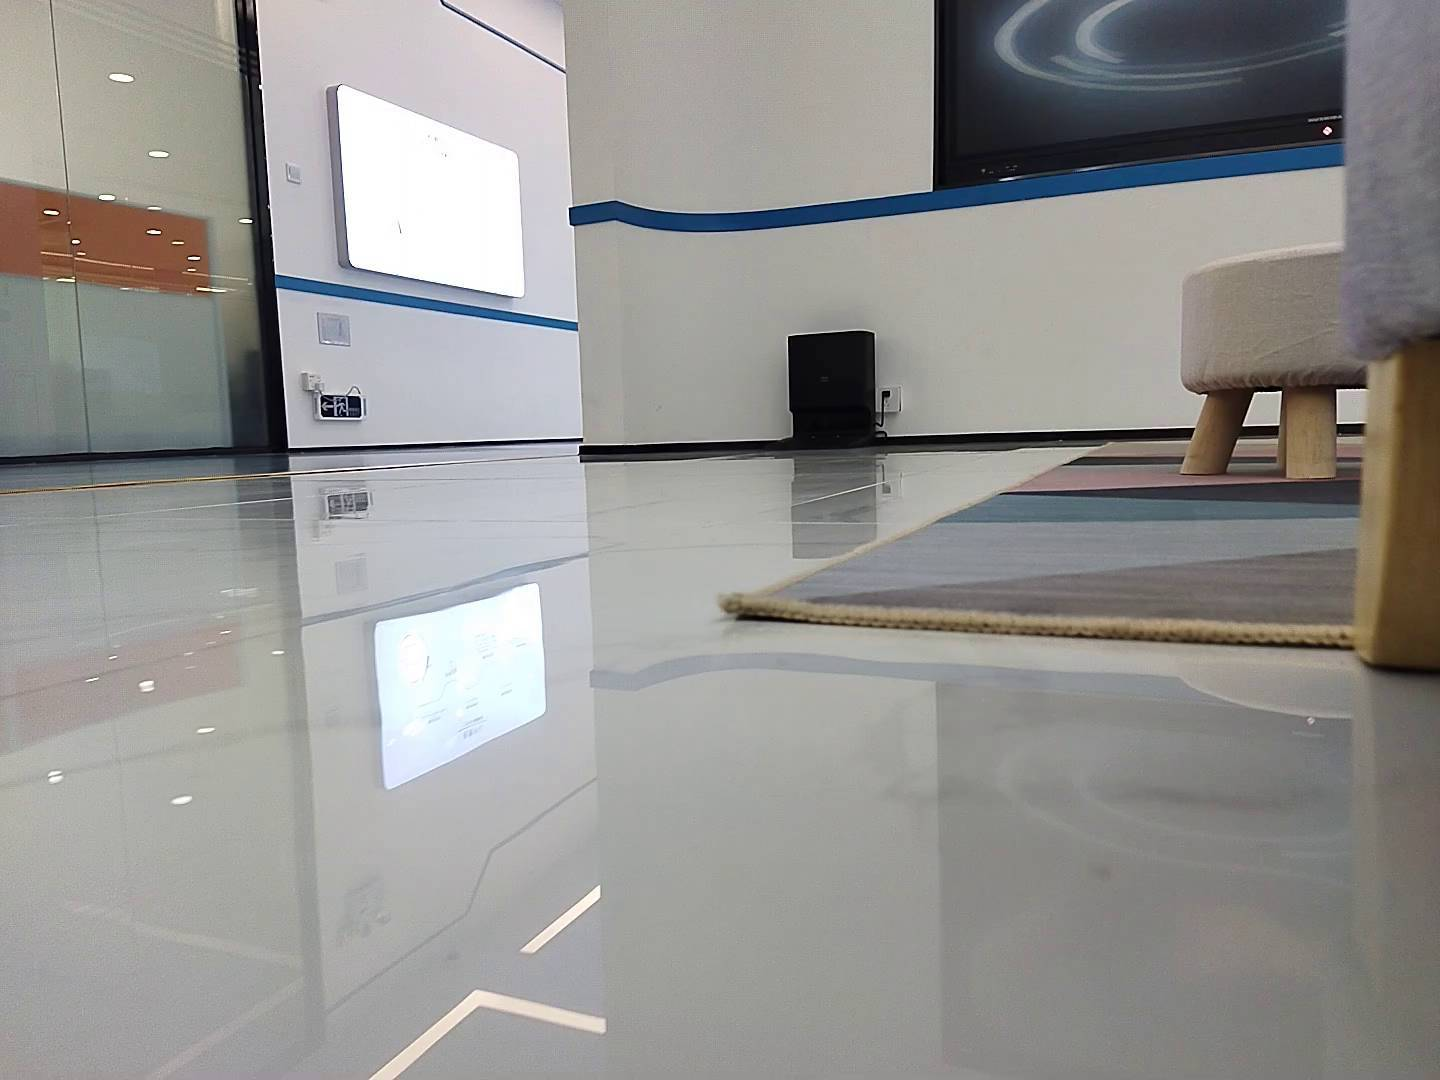dust collecting barrel: (759, 330, 889, 454)
